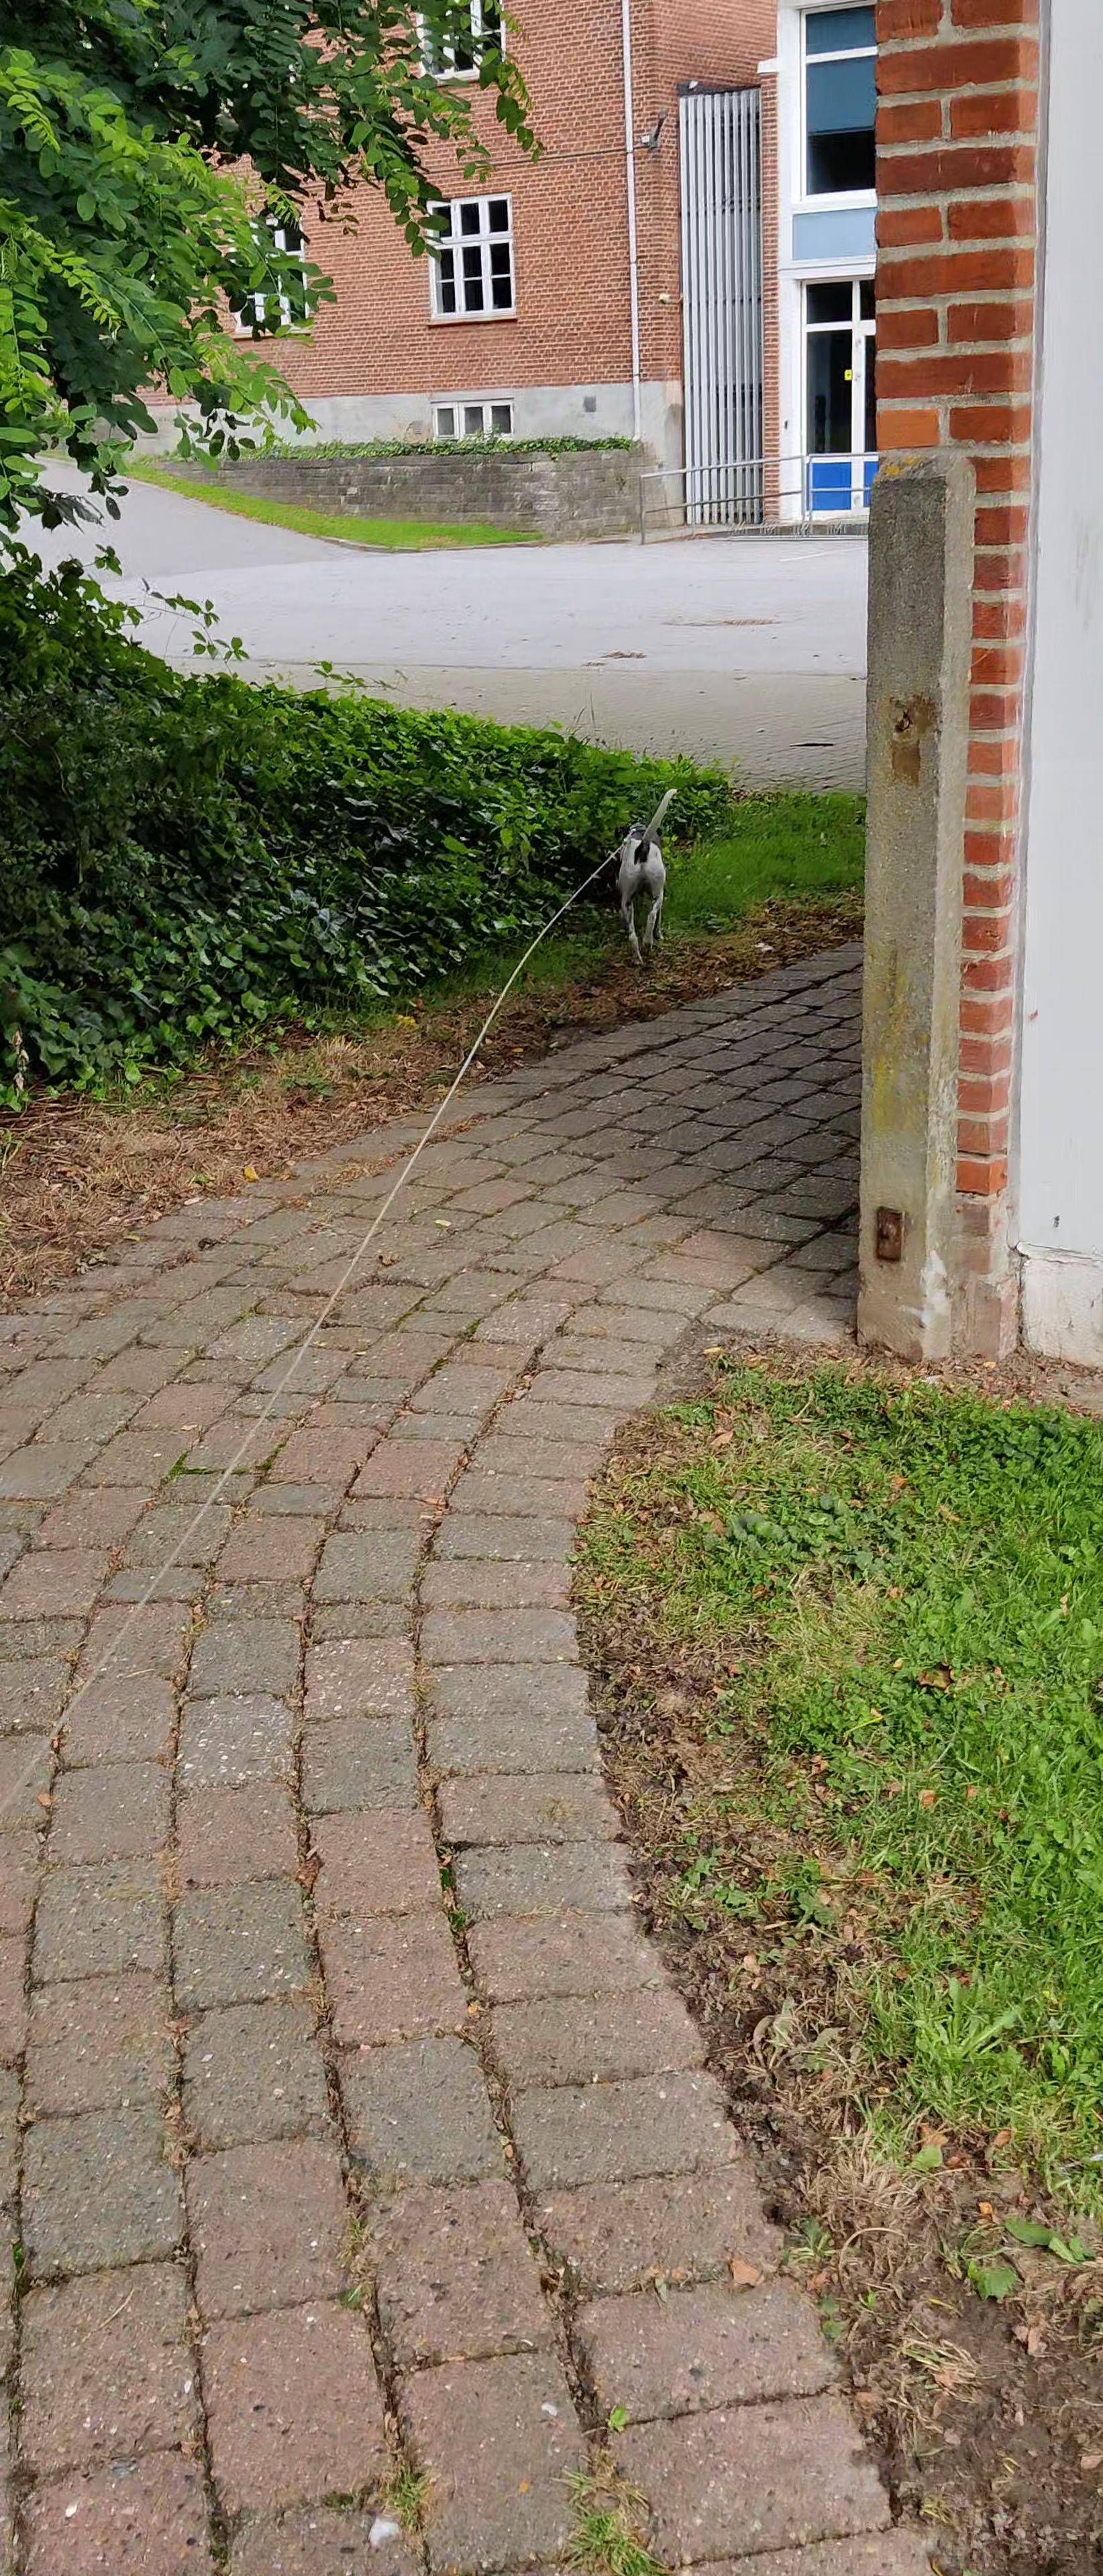Dog: (605, 785, 685, 968)
